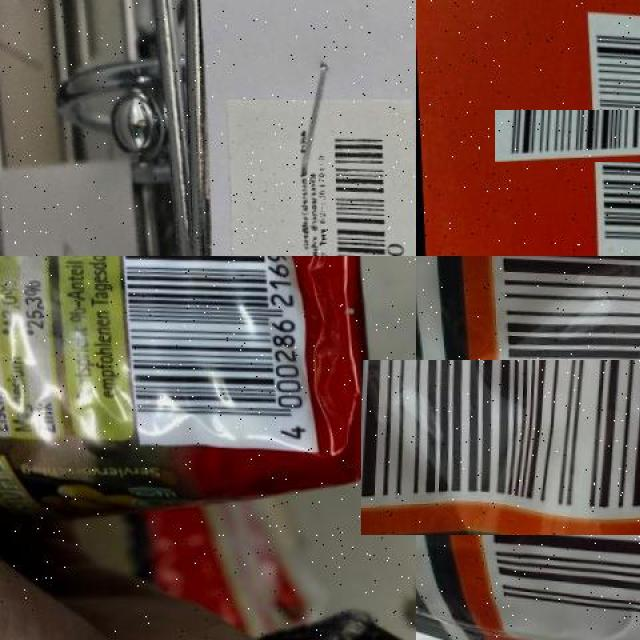Barcode: (413, 308, 640, 587), (119, 256, 313, 459), (542, 63, 640, 209), (324, 120, 409, 256)
